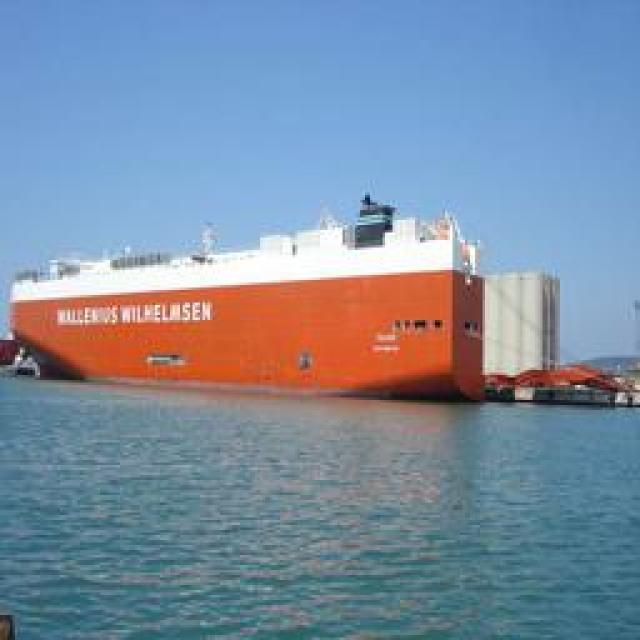CIV_Ship: (11, 196, 611, 402)
